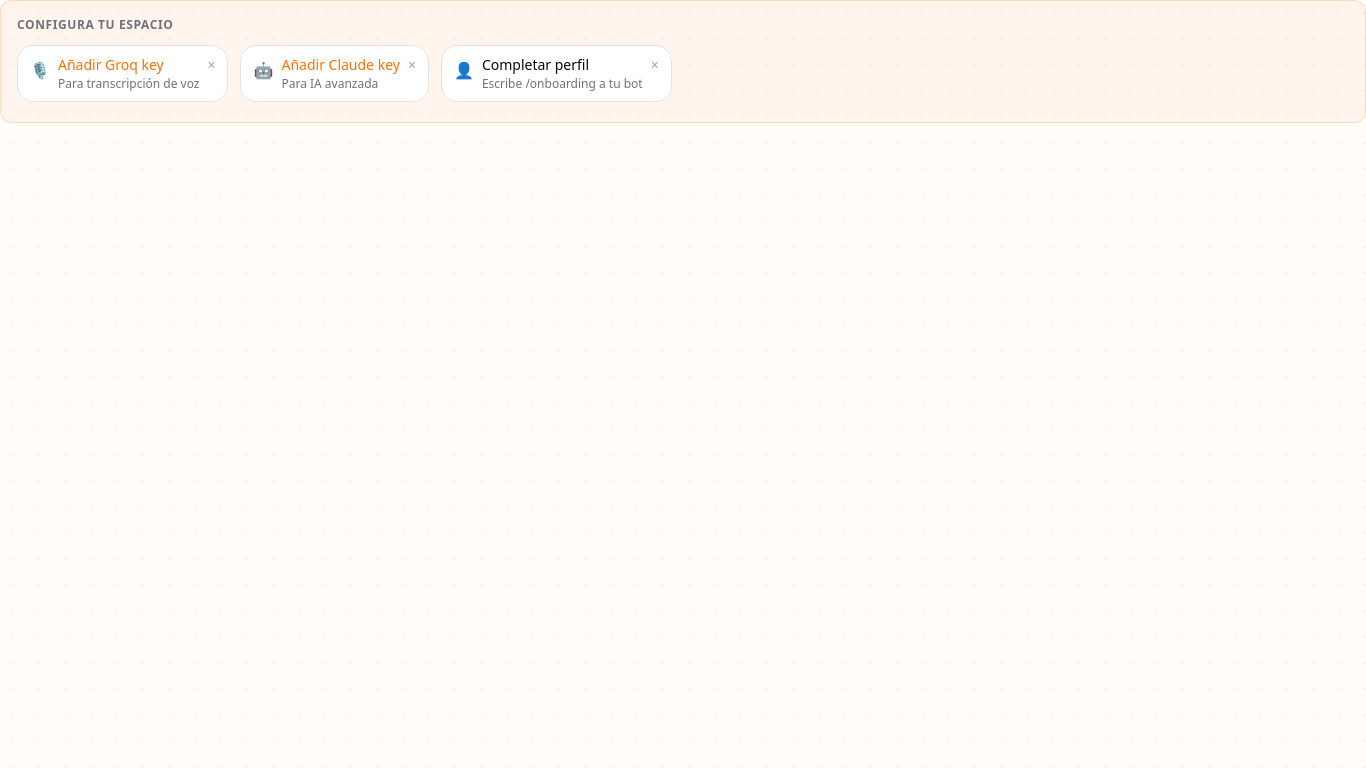
Test: SetupBanner › hides a step after dismiss
Check: the link "Añadir Groq key" is shown, box [58,55,164,74]
Click the button titled "Omitir" next to "Añadir Groq key". click: coordinates (212, 65)
box: [208,58,216,72]
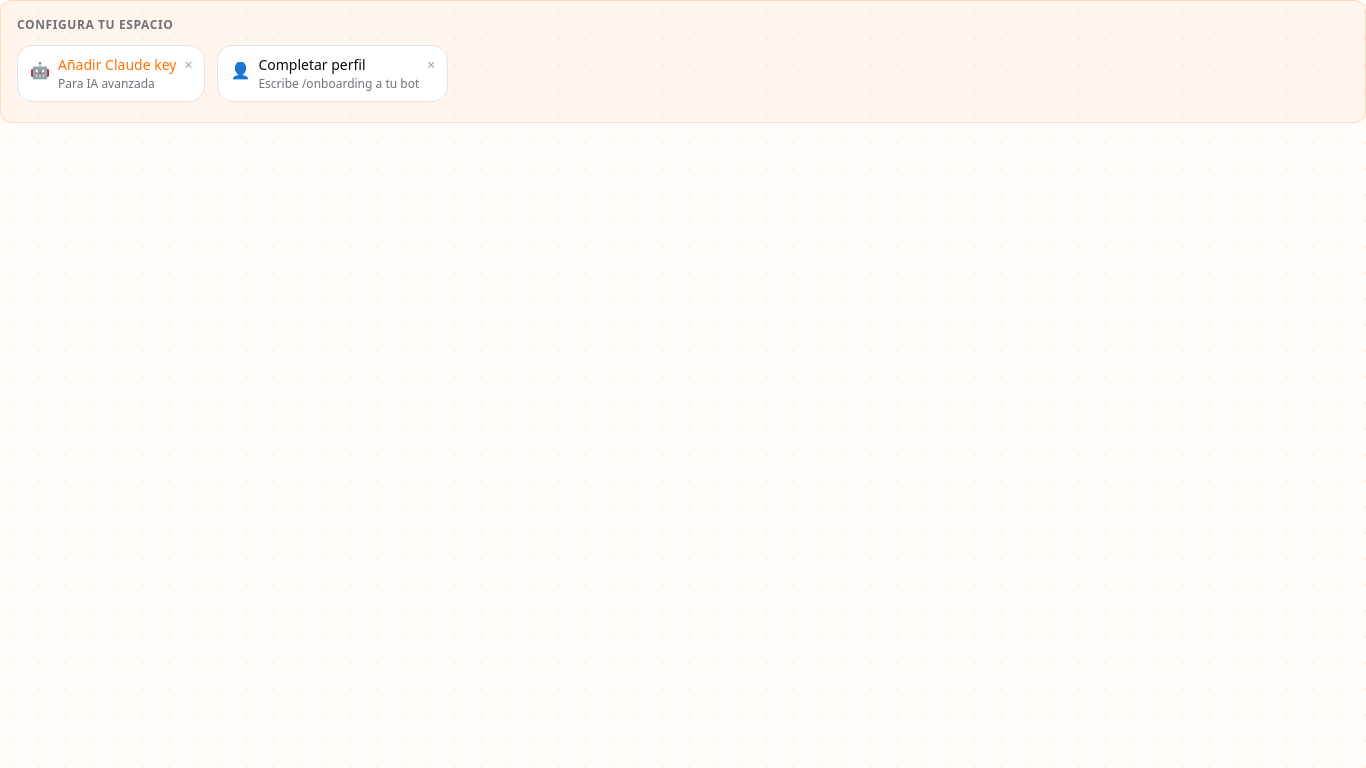
Check: the link "Añadir Groq key" is gone
